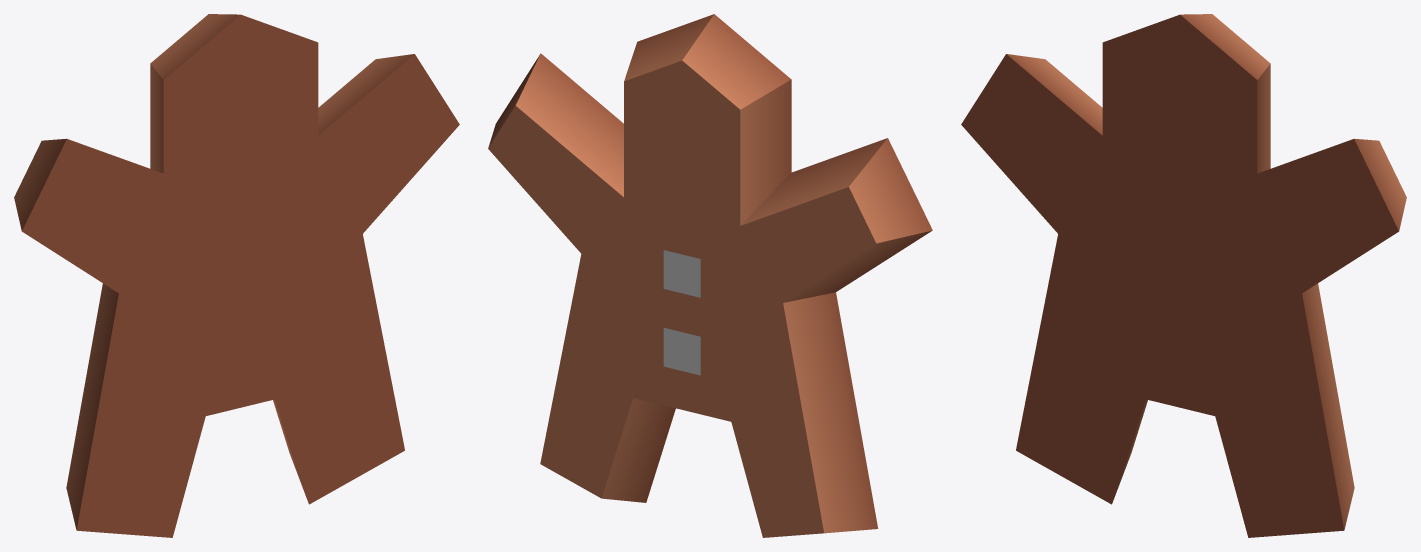
File: ginger-bread.glb
3 renders of one model, left to right at view 1: azimuth 30°, elevation 25°; view 2: azimuth 150°, elevation 25°; view 3: azimuth 330°, elevation 25°, orthographic.
Parts seen in each view (by area): view 1: geometry_0; view 2: geometry_0; view 3: geometry_0.
Part boxes in pixels (<box>): geometry_0: <box>14,14,459,537</box>; geometry_0: <box>488,14,932,537</box>; geometry_0: <box>961,14,1406,537</box>.
Bounding box in the file's own units: 0.9771 × 1.08 × 0.1244.
